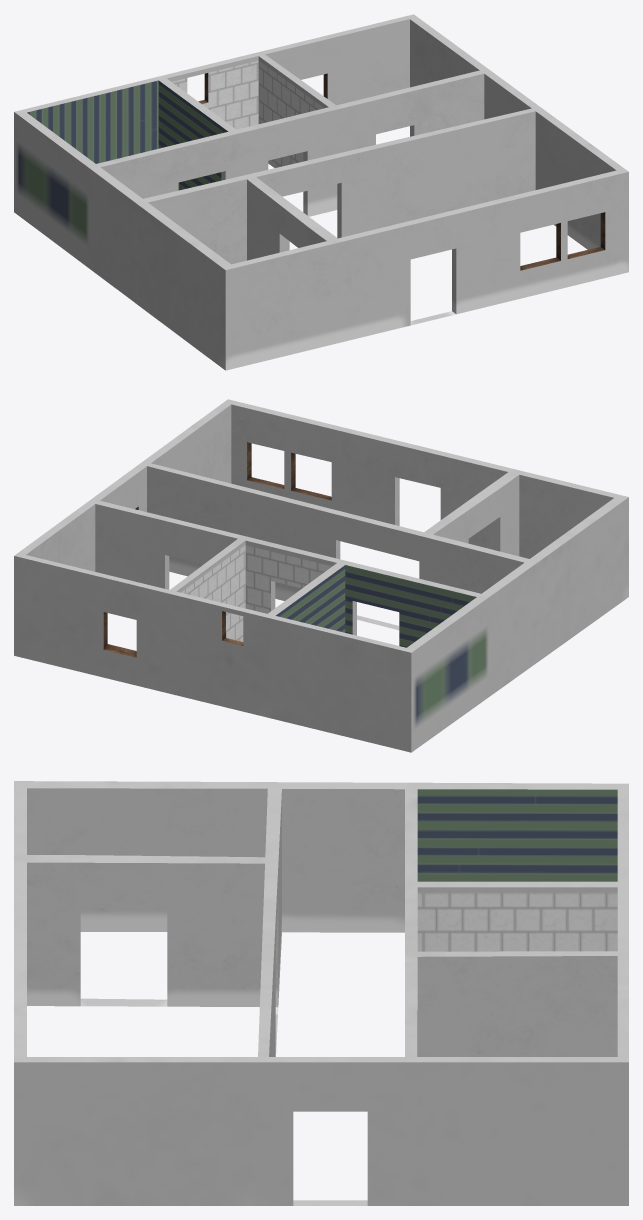
Rendered from GGJ21_Appartment_Walls.fbx.
The picture shows the model from 3 angles, top to bottom: view 1: azimuth 30°, elevation 25°; view 2: azimuth 150°, elevation 25°; view 3: azimuth 270°, elevation 25°; orthographic projection. The views are drawn at different scales.
Visible parts, largest first — view 1: Walls; view 2: Walls; view 3: Walls.
Part boxes in pixels (left/top/right/bottom): Walls: left=14, top=14, right=628, bottom=370; Walls: left=14, top=399, right=628, bottom=752; Walls: left=14, top=781, right=628, bottom=1205.
Bounding box in the file's own units: 9720 × 2313 × 8984.
